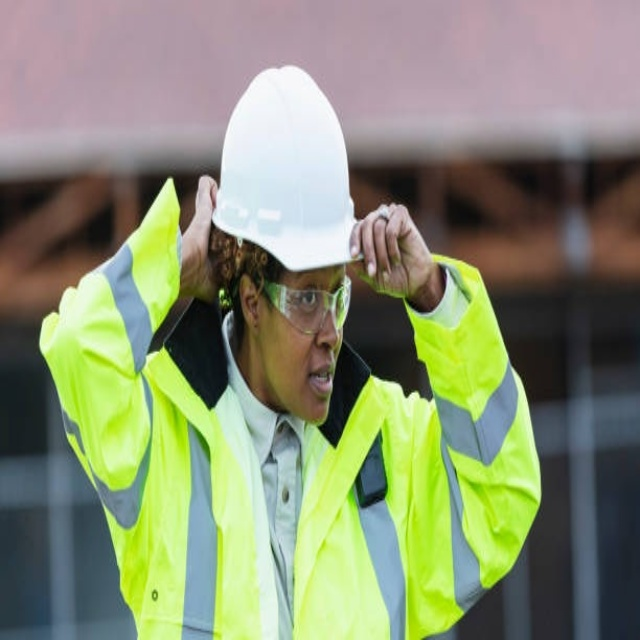Gafas: (262, 273, 352, 334)
Sin_guantes: (349, 198, 434, 305), (177, 173, 225, 306)
Sin_mascara: (296, 353, 341, 417)
